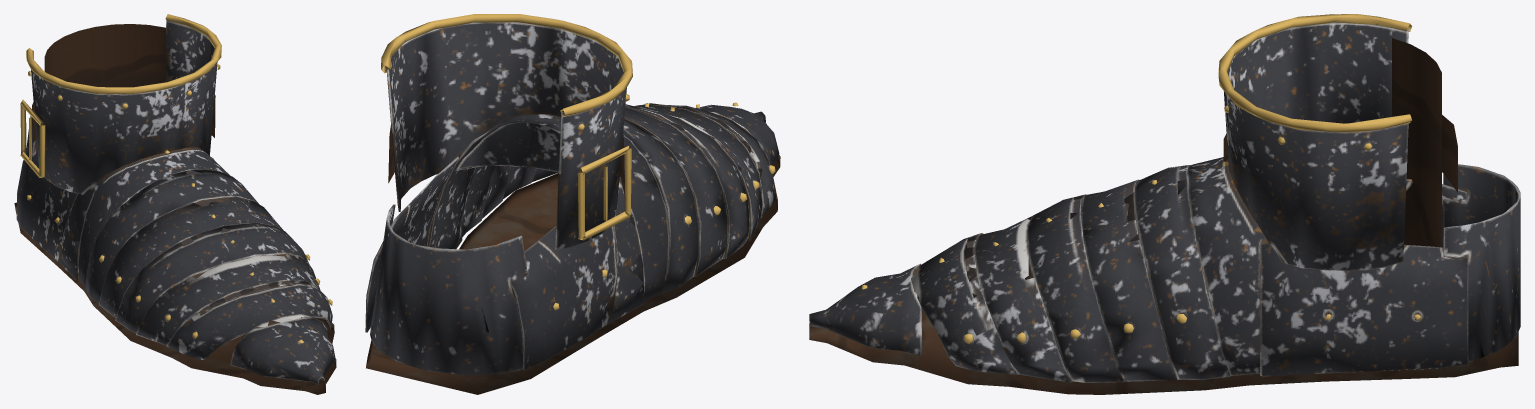
File: SM_EagleSabatons_R_LOD2.fbx
The picture shows the model from 3 angles, left to right: view 1: azimuth 30°, elevation 25°; view 2: azimuth 150°, elevation 25°; view 3: azimuth 270°, elevation 25°; orthographic projection. The views are drawn at different scales.
Parts seen in each view (by area): view 1: SM_EagleSabatons_R_LOD2; view 2: SM_EagleSabatons_R_LOD2; view 3: SM_EagleSabatons_R_LOD2.
Part boxes in pixels (x1=…): SM_EagleSabatons_R_LOD2: x1=14, y1=14, x2=336, y2=394; SM_EagleSabatons_R_LOD2: x1=365, y1=14, x2=780, y2=394; SM_EagleSabatons_R_LOD2: x1=809, y1=14, x2=1520, y2=394.
Size of the model in its own units: 0.1105 by 0.1171 by 0.2808.
